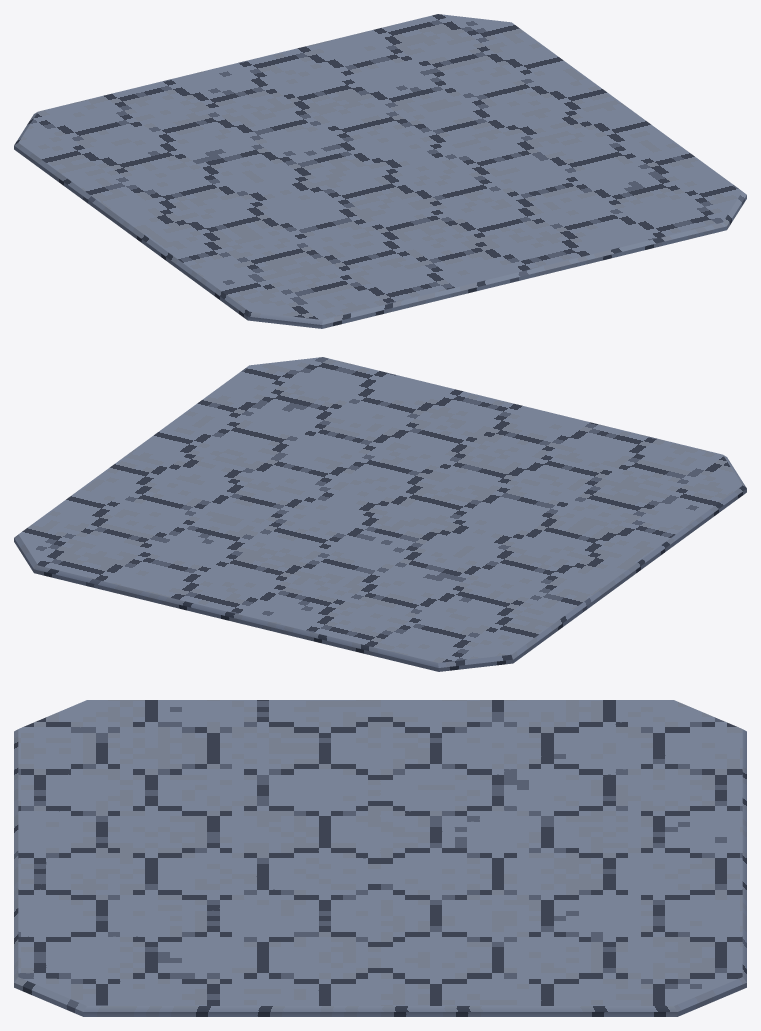
Rendered from stn.floor__plain.glb.
The picture shows the model from 3 angles, top to bottom: view 1: azimuth 30°, elevation 25°; view 2: azimuth 150°, elevation 25°; view 3: azimuth 270°, elevation 25°; orthographic projection. The views are drawn at different scales.
Visible parts, largest first — view 1: kit_plate; view 2: kit_plate; view 3: kit_plate.
Boxes of the visible parts, <box> form: kit_plate: <box>14,14,746,328</box>; kit_plate: <box>14,357,746,671</box>; kit_plate: <box>14,700,746,1016</box>.
Bounding box in the file's own units: 3.7 × 0.05 × 3.7.
1 material, 1 textured.
